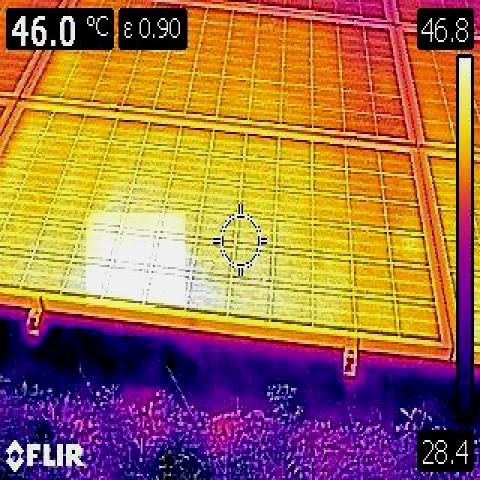fault: (86, 214, 185, 308)
